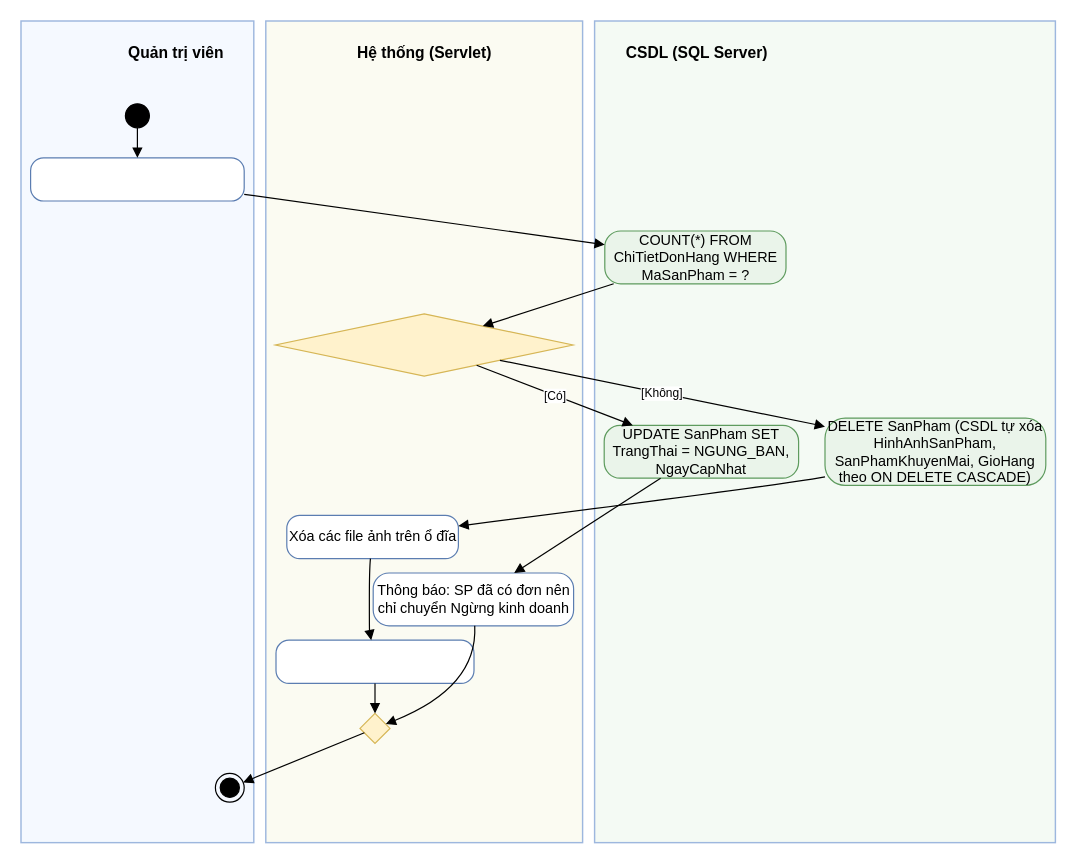
Some shapes in this 1078 by 864 pixel diagram are drawn without their labels. Each missing label, with the centre of its shape:
Bấm Xóa một sản phẩm, xác nhận: (x=136, y=179)
Sản phẩm đã có trong đơn hàng?: (x=423, y=344)
Thông báo xóa thành công: (x=374, y=661)
